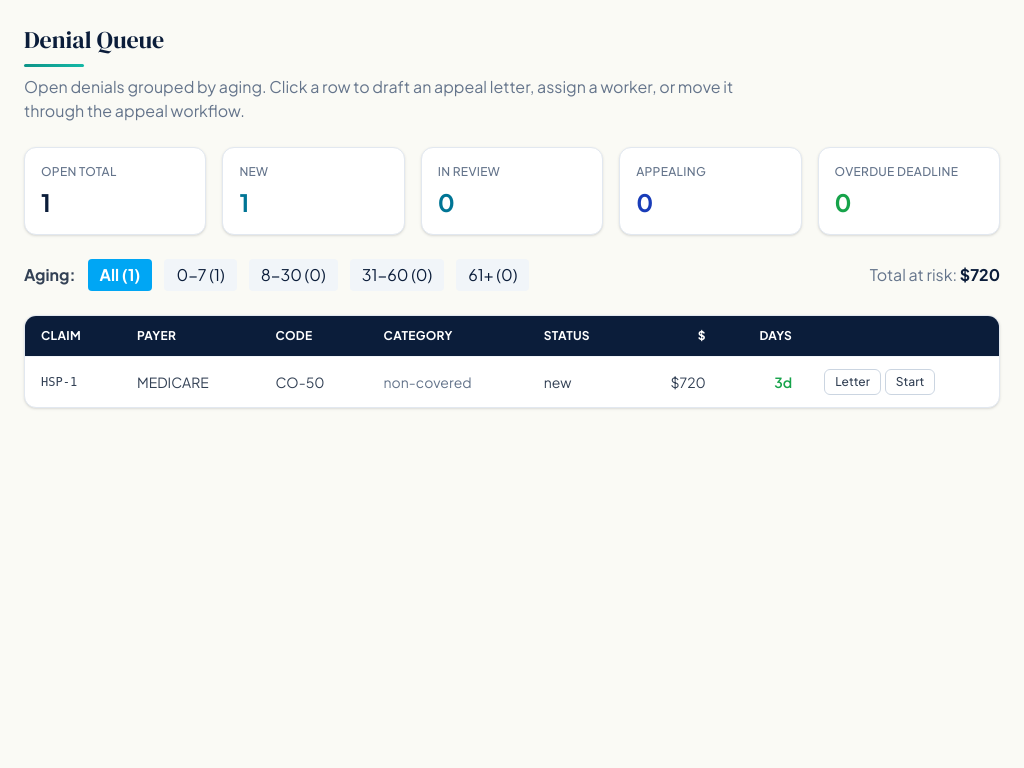
Test: DenialQueuePage › drafts an appeal letter
Click the button "Letter": coordinates (853, 382) [824, 369, 881, 395]
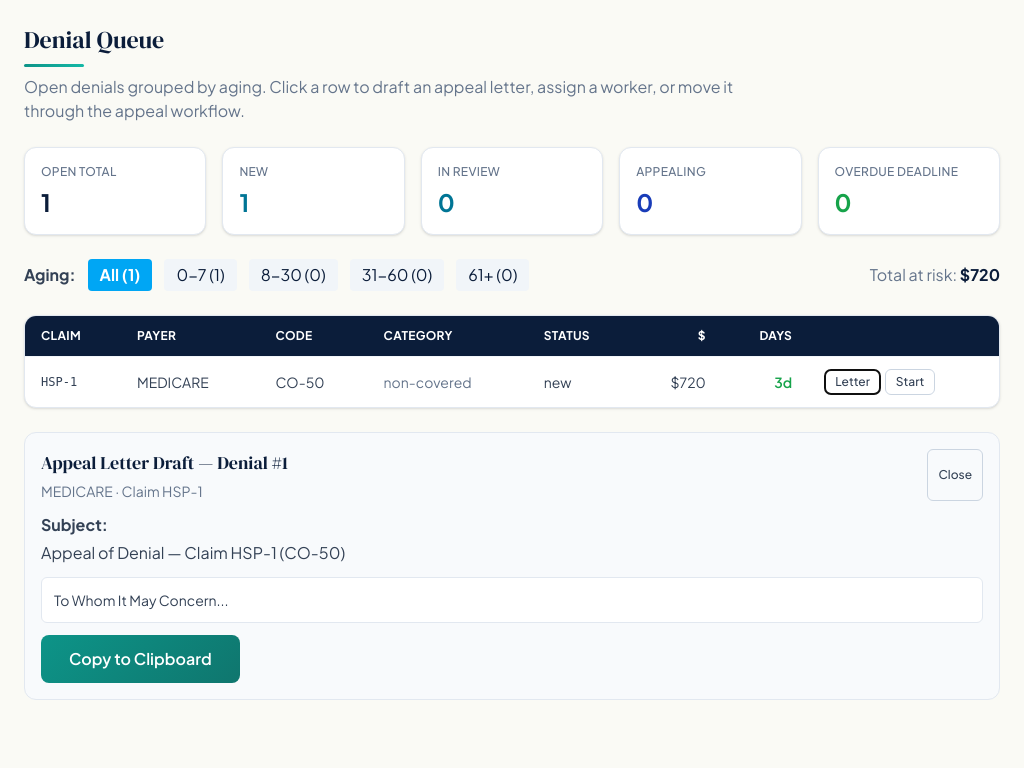
Expected: the text "Appeal of Denial — Claim HSP-1 (CO-50)" is shown, [41, 542, 345, 563]
Expected: the text "To Whom It May Concern..." is shown, [41, 577, 983, 623]
